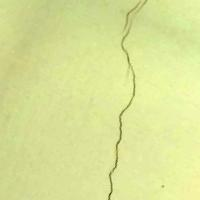crack: (103, 0, 149, 199)
